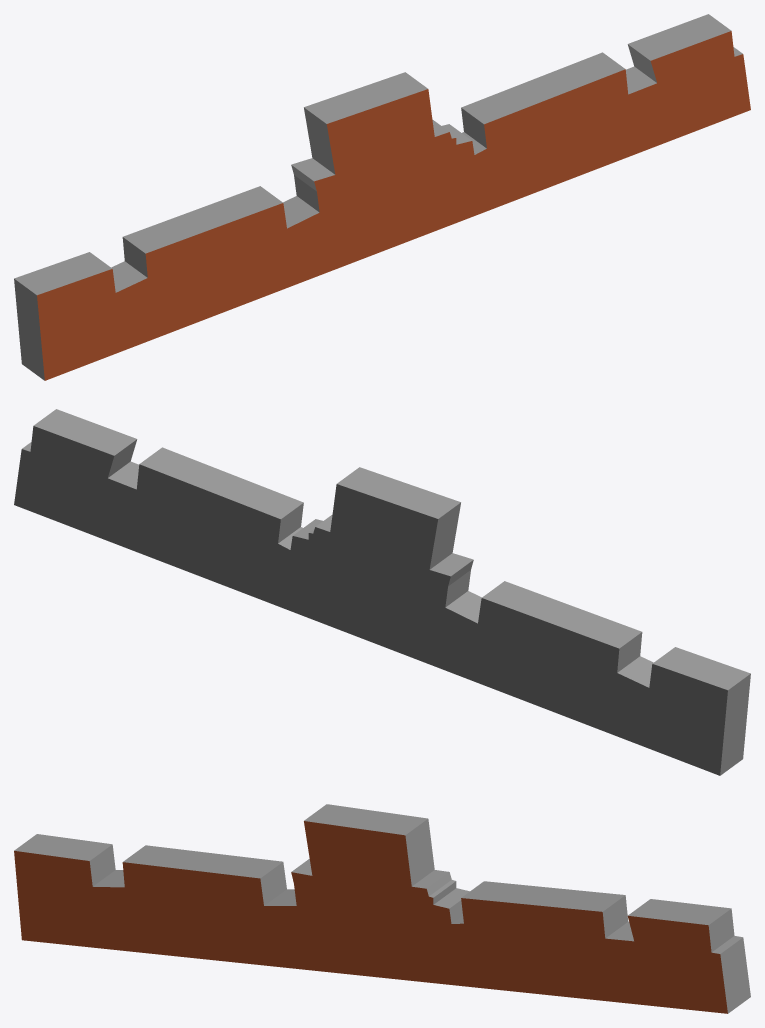
File: construction_2994_assumed_A_Casa_h6m.obj
The picture shows the model from 3 angles, top to bottom: view 1: azimuth 30°, elevation 25°; view 2: azimuth 150°, elevation 25°; view 3: azimuth 330°, elevation 25°; orthographic projection.
Visible parts, largest first — view 1: construction_2994_assumed_A_Casa; view 2: construction_2994_assumed_A_Casa; view 3: construction_2994_assumed_A_Casa.
Part boxes in pixels (bbox=[...]): construction_2994_assumed_A_Casa: bbox=[14, 14, 750, 380]; construction_2994_assumed_A_Casa: bbox=[14, 409, 750, 775]; construction_2994_assumed_A_Casa: bbox=[14, 804, 750, 1013].
Size of the model in its own units: 108 by 28.58 by 6.
